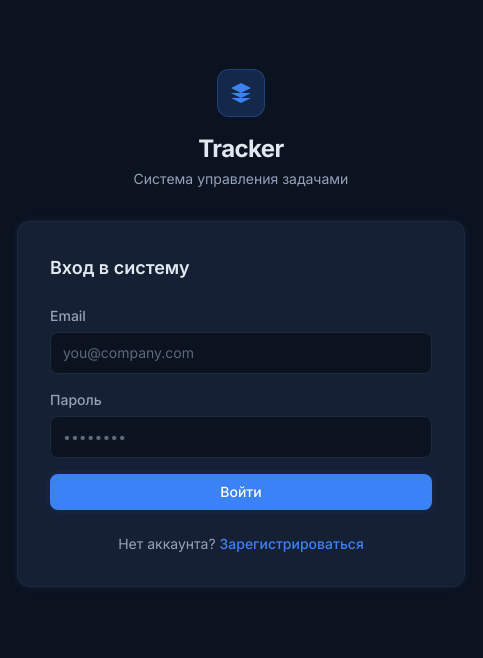
Test: LoginPage › 2FA flow › changes button label to "Подтвердить" in 2FA step
In the field labelled "Email": [241, 353] box x1=50 y1=332 x2=432 y2=374, type "alice@test.com"
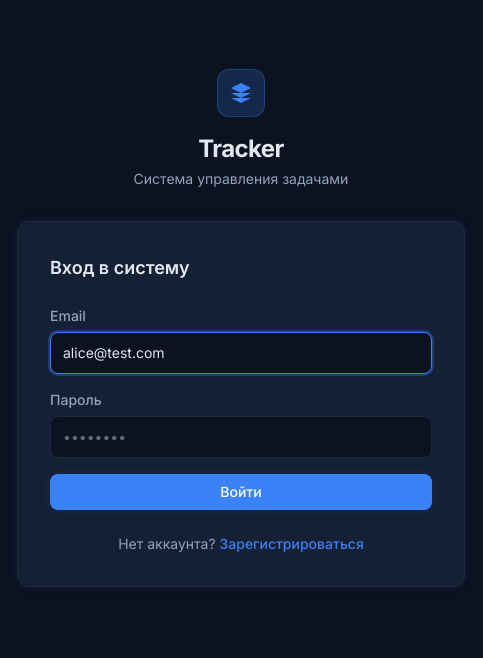
In the password field labelled "Пароль": [241, 437] box x1=50 y1=416 x2=432 y2=458, type "password123"
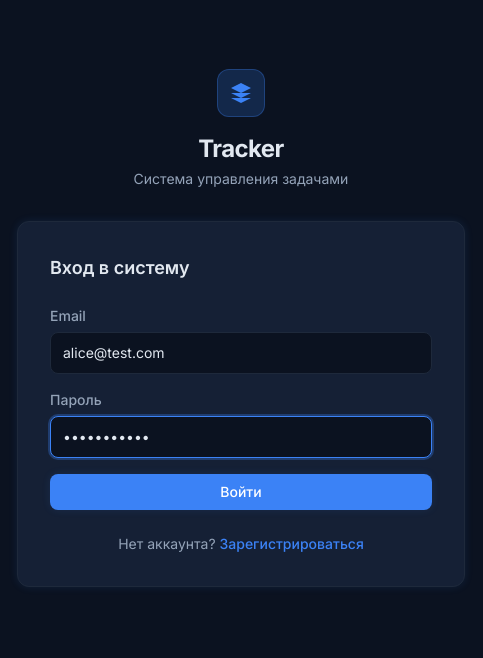
Click the button "Войти": [241, 492] box x1=50 y1=474 x2=432 y2=510
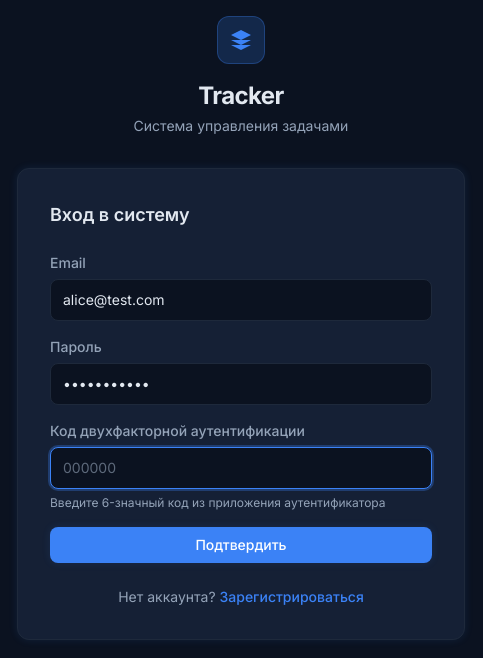
Result: the button "Подтвердить" is shown at x1=50 y1=527 x2=432 y2=563
